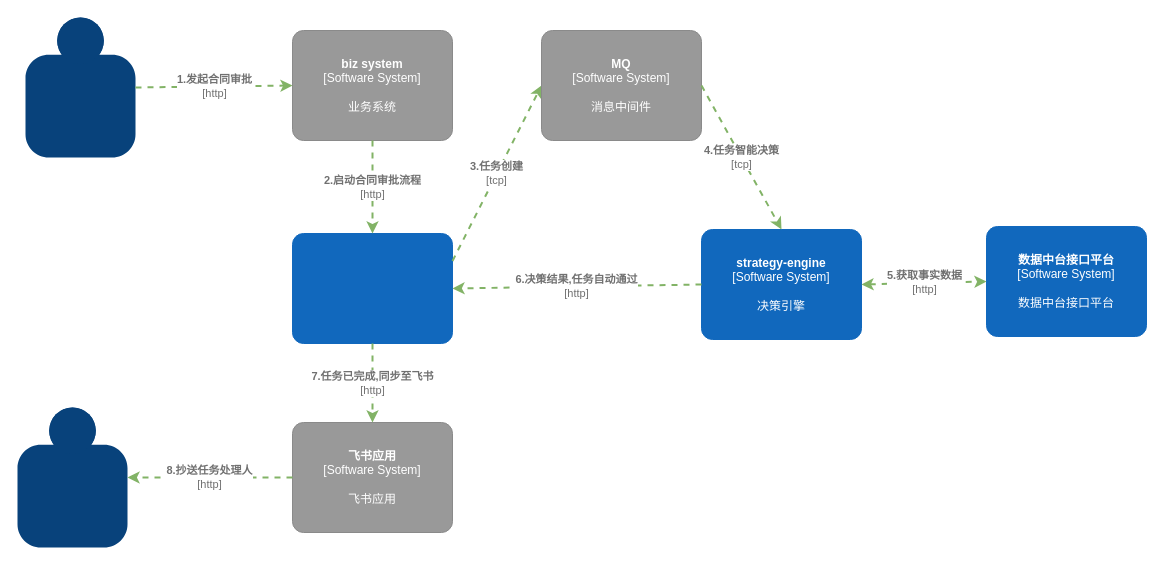
The diagram is 1164 pixels wide and 564 high, and some of its shapes have lost their labels. The box of each missing label's shape, as (x1, y1, x2, y2) in pixels:
flowable-plus [Software System] 流程引擎: (292, 232, 452, 344)
Initiator [Person] 发起者: (25, 17, 135, 157)
user [Person] 办理人: (17, 407, 127, 547)
